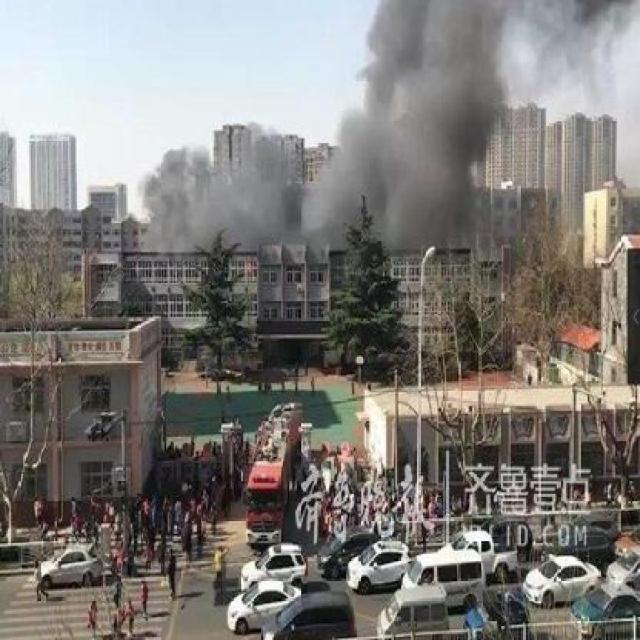Smoke: (172, 9, 634, 252)
